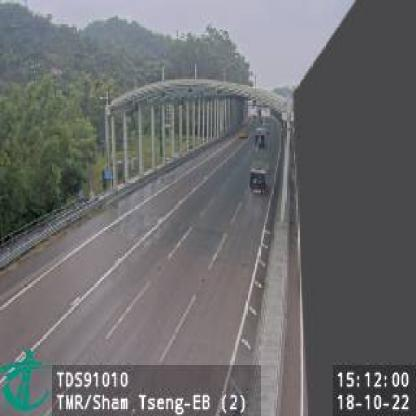Truck: (249, 162, 270, 197)
